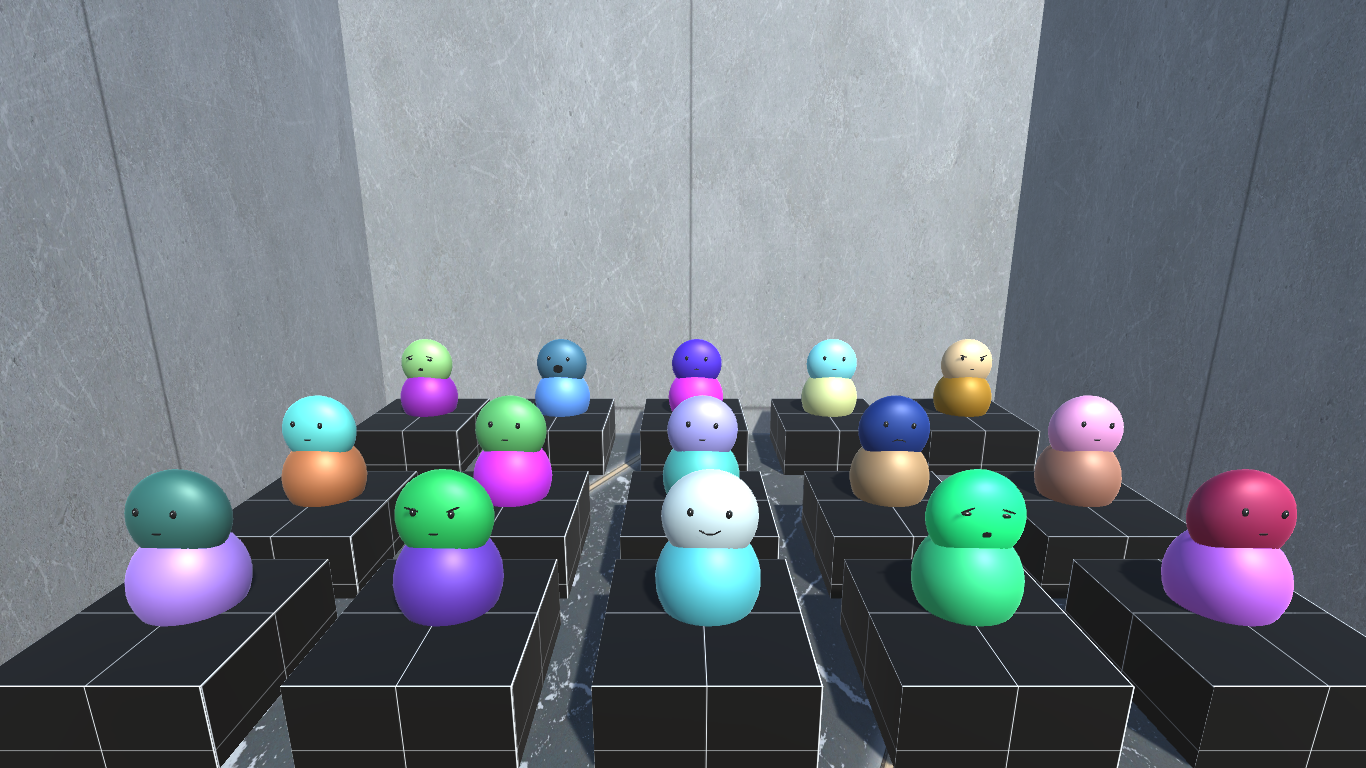blob_entediado: (897, 467, 1032, 632), (398, 336, 454, 422)
blob_feliz: (648, 468, 782, 637)
blob_normal: (1171, 466, 1309, 633), (122, 468, 259, 626), (651, 393, 754, 511), (1033, 394, 1129, 519), (280, 395, 377, 518), (473, 392, 561, 519), (798, 337, 862, 424), (667, 334, 727, 417)
blob_raiva: (386, 466, 503, 624), (937, 338, 998, 422)
blob_surpreso: (535, 339, 596, 431)
blob_triste: (845, 396, 931, 504)
